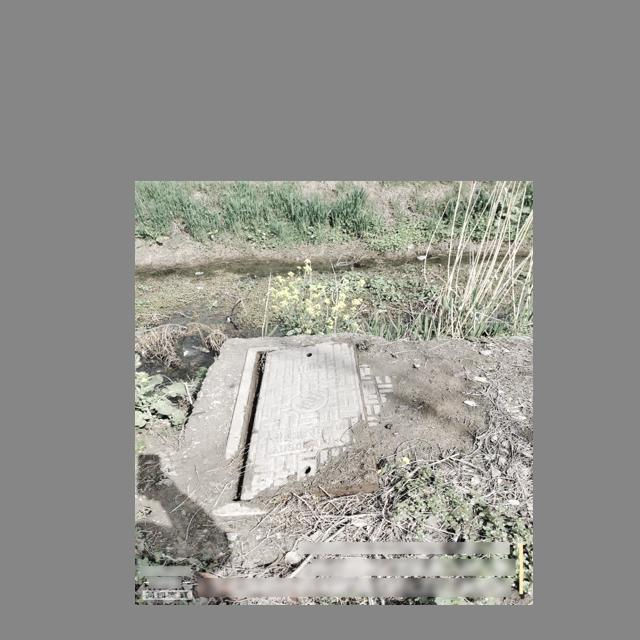uncovered: (212, 337, 401, 512)
